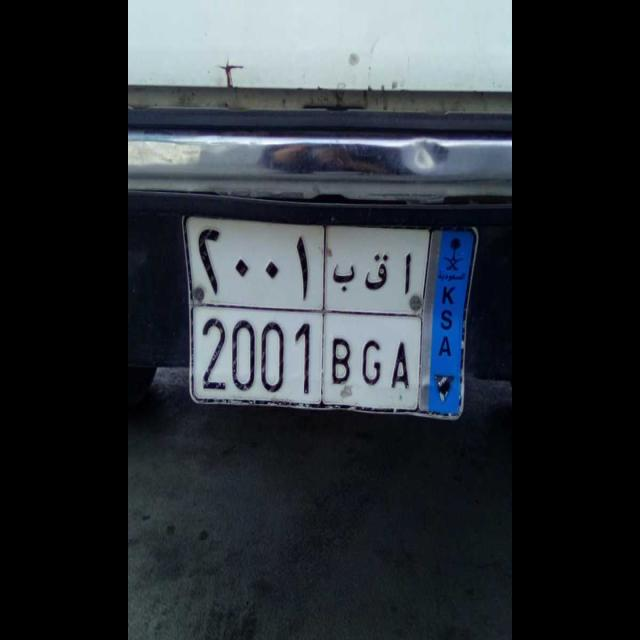license_plate: (186, 302, 421, 416)
